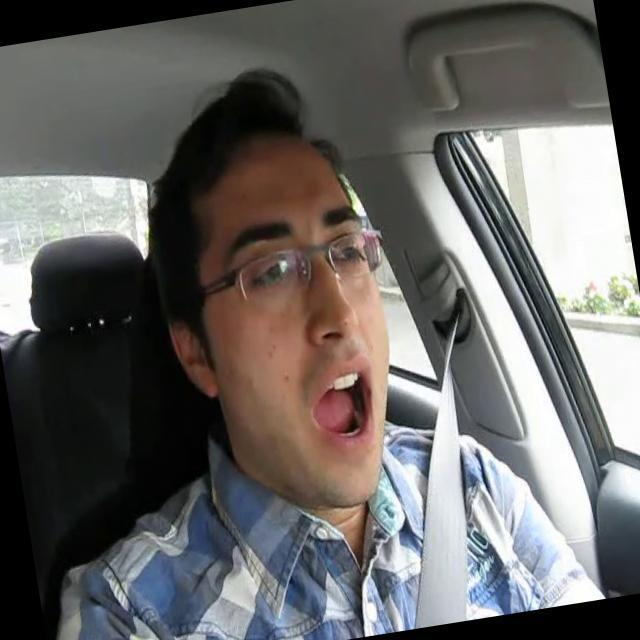open-mouth: (308, 362, 374, 450)
